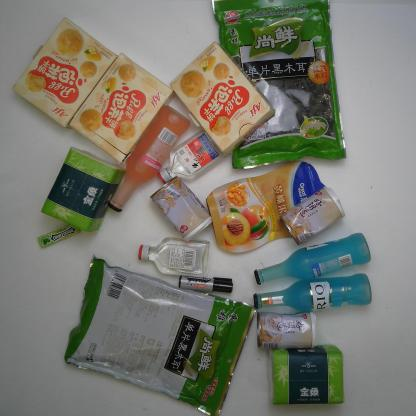Alcohol: (107, 104, 192, 214), (252, 233, 371, 287), (252, 272, 375, 310), (158, 128, 225, 188), (137, 235, 210, 281)
Canned Food: (151, 174, 214, 244), (277, 186, 346, 246), (254, 310, 320, 350)
Dessert: (10, 15, 119, 130), (169, 40, 276, 157), (67, 51, 175, 166)
Dried Food: (62, 251, 257, 415), (211, 0, 348, 171)
Dried Fruit: (205, 159, 327, 255)
Gum: (36, 221, 82, 251)
Stationery: (176, 272, 235, 292)
Tissue: (40, 144, 128, 236), (266, 342, 344, 406)
